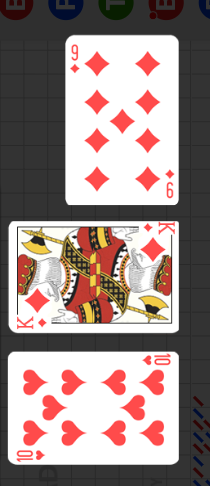10H: (140, 353, 172, 367)
9D: (164, 167, 176, 200), (69, 43, 81, 75)
